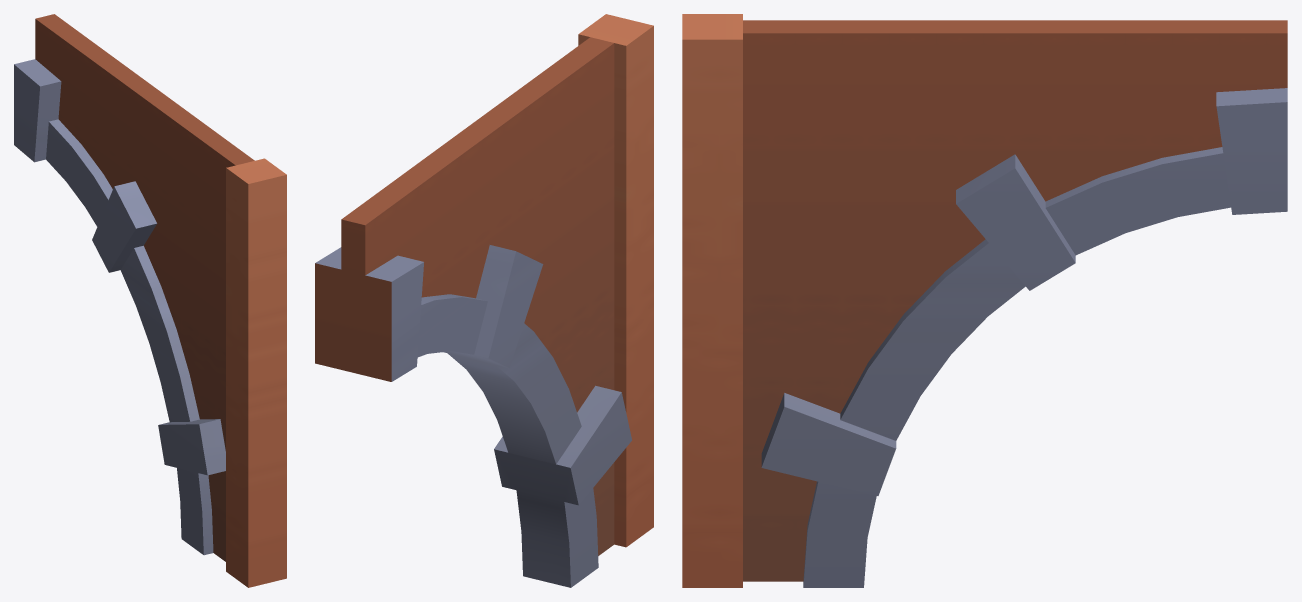
The model's file is wallWoodArchTopDetail.fbx.
The picture shows the model from 3 angles, left to right: view 1: azimuth 30°, elevation 25°; view 2: azimuth 150°, elevation 25°; view 3: azimuth 270°, elevation 25°; orthographic projection. The views are drawn at different scales.
Visible parts, largest first — view 1: wallWoodArchTopDetail; view 2: wallWoodArchTopDetail; view 3: wallWoodArchTopDetail.
Part boxes in pixels (x1,y1,x2,y2): wallWoodArchTopDetail: [14, 14, 286, 587]; wallWoodArchTopDetail: [315, 14, 653, 587]; wallWoodArchTopDetail: [682, 14, 1287, 587].
Size of the model in its own units: 0.16 by 1 by 1.
